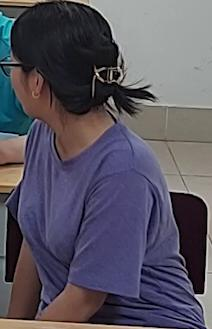Turning_Around: (0, 3, 212, 328)
